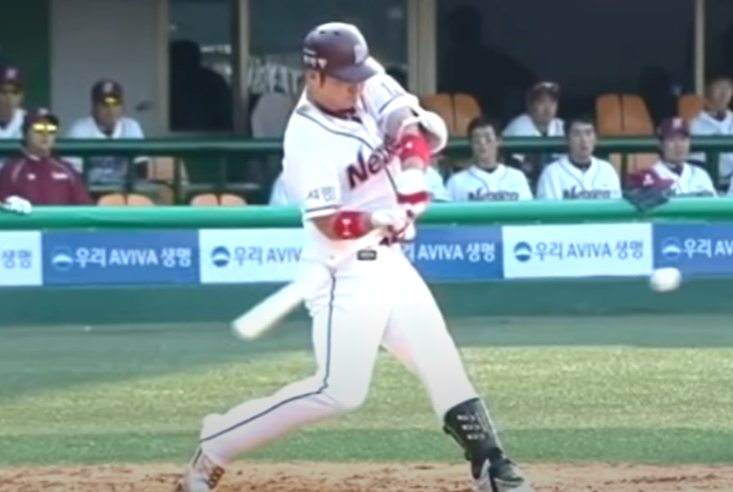ball: (650, 266, 682, 292)
